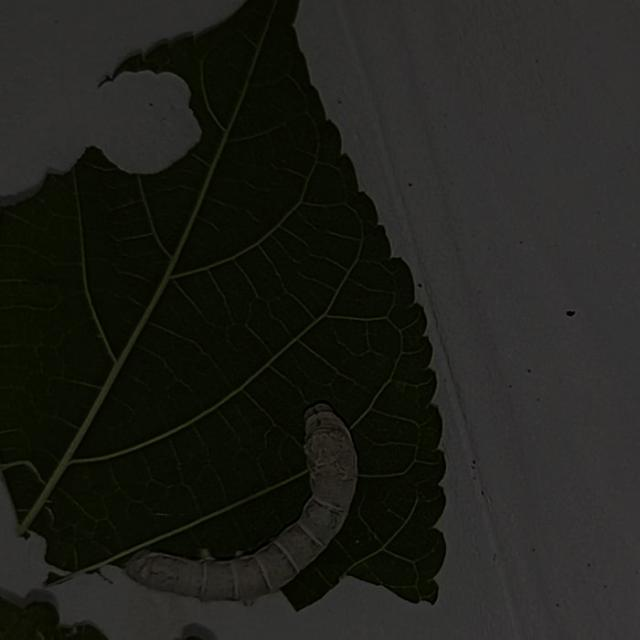Healthy: (110, 375, 373, 617)
